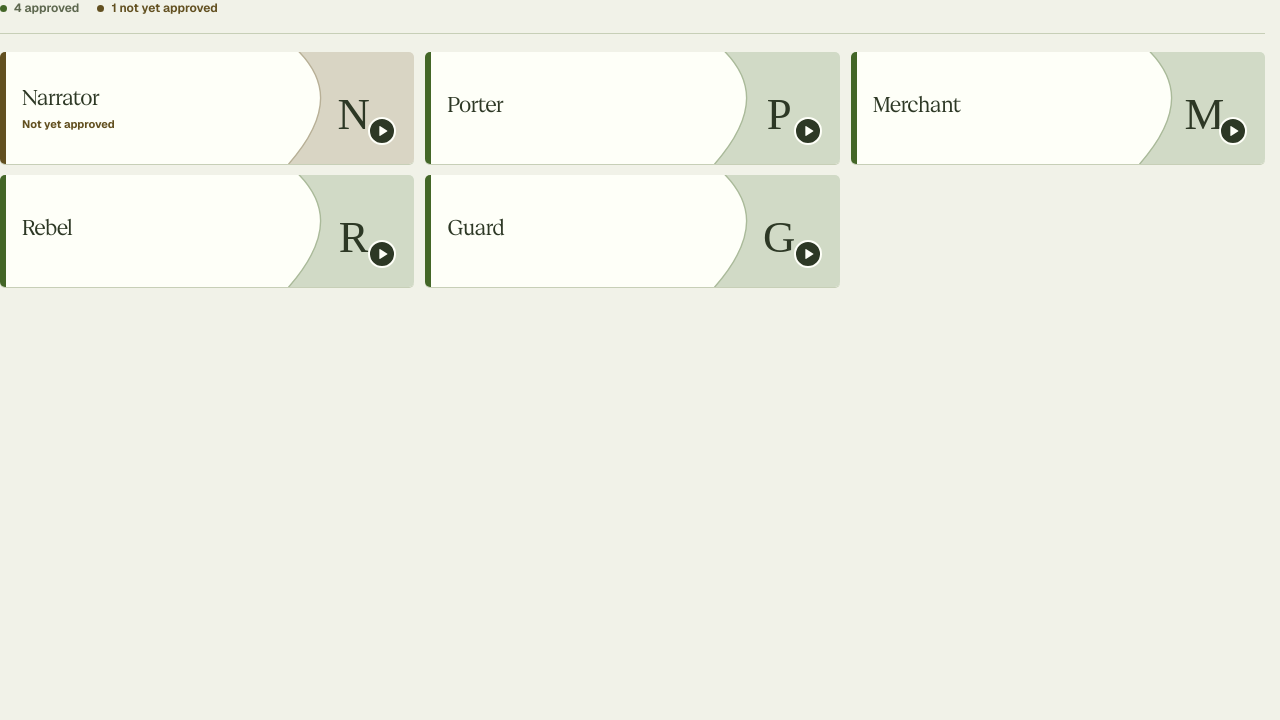
Test: CastVoiceReview › marks reused auditions as informative shared voices with matching initials colors
Click the button with aria-label "Open Guard voice" at (476, 227), box [425,175,840,287]
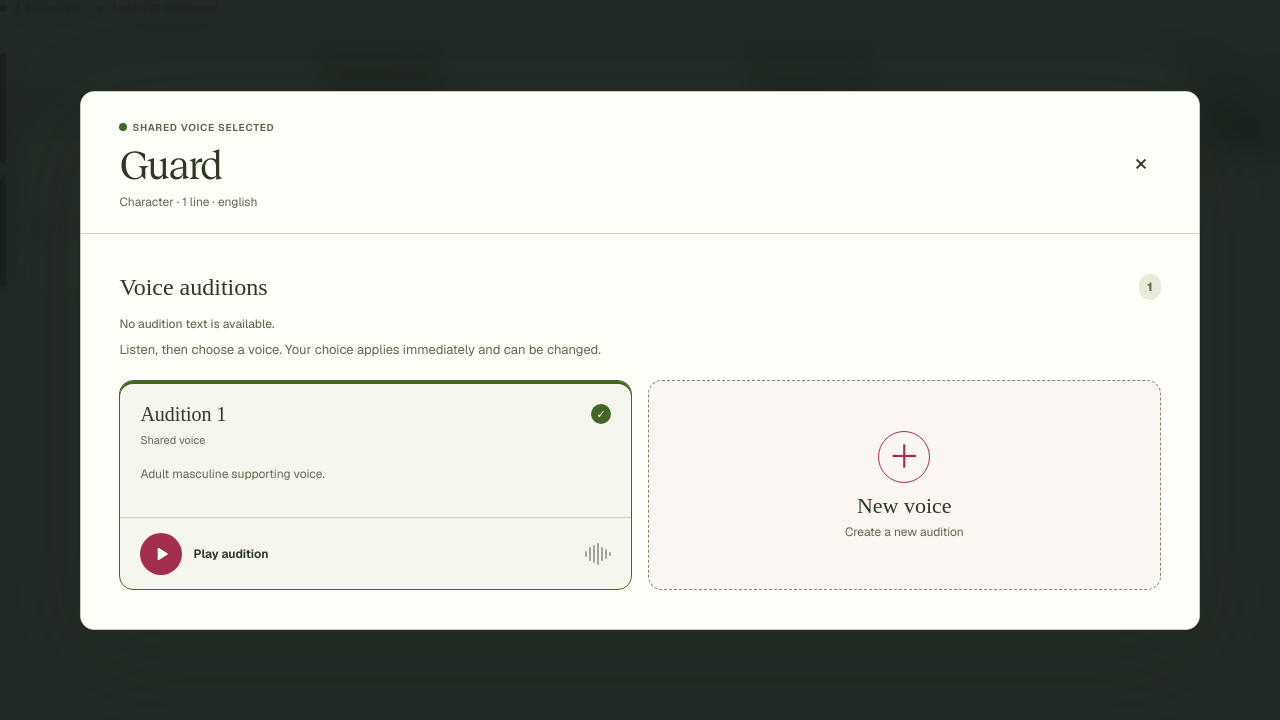
Expected: the text "Shared voice" is shown, [140,433,205,447]
